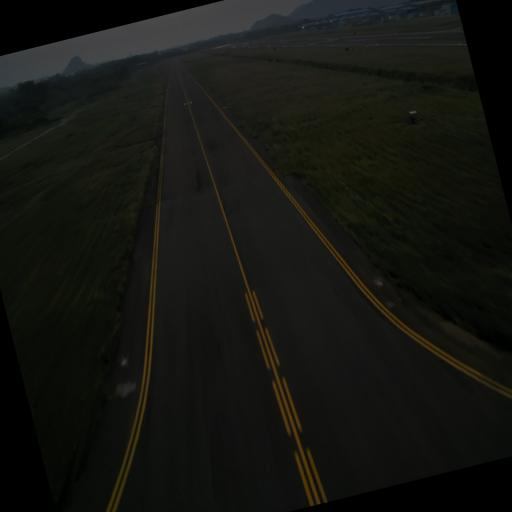on: (376, 274, 383, 284), (120, 353, 126, 364)
